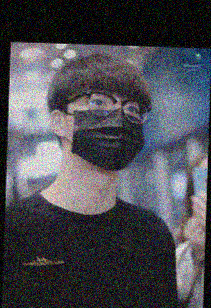with_mask: (58, 84, 146, 170)
